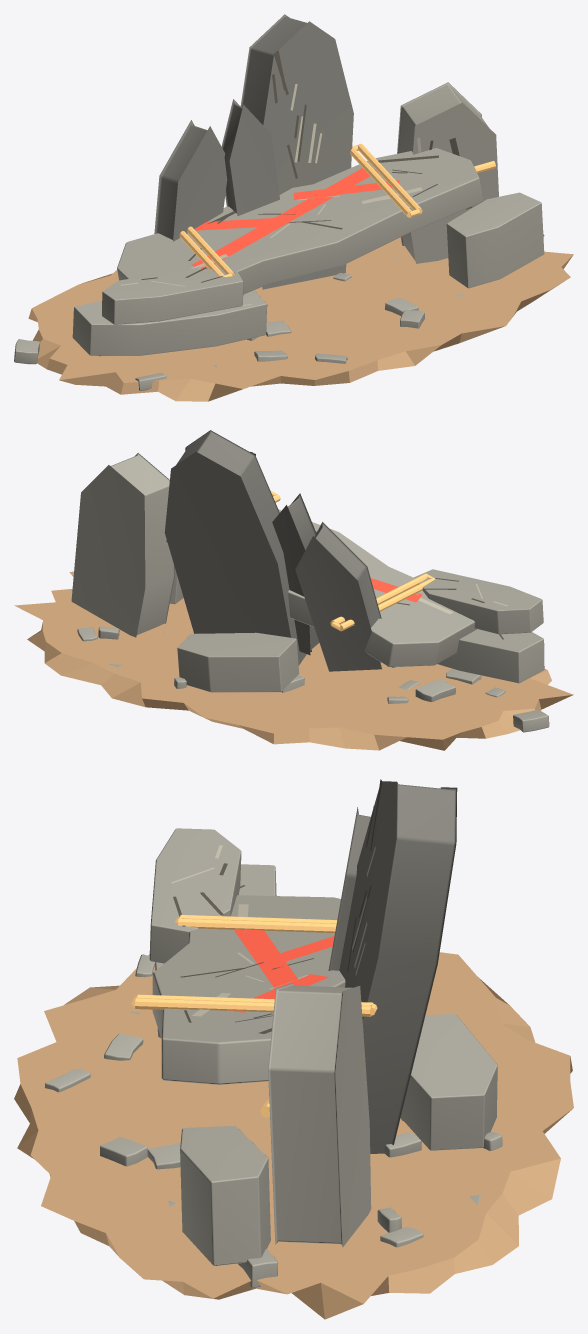
Rendered from SM_GIA_BloodAxeCairnSlabCluster_A01_TurnaroundRebuild.fbx.
3 views of the same model, one above another, from view 1: azimuth 30°, elevation 25°; view 2: azimuth 150°, elevation 25°; view 3: azimuth 270°, elevation 25° (orthographic). The views are drawn at different scales.
Visible parts, largest first — view 1: A1_Turnaround_AshMudBase, A1_Turnaround_MainFallenPaintedSlab, A1_Turnaround_RearTallBrokenSlab, A1_Turnaround_RightRawhideUpright, A1_Turnaround_LeftFrontStackBase, A1_Turnaround_RightSupportStone, A1_Turnaround_LeftFrontStackCap, A1_Turnaround_LeftRearShard, A1_Turnaround_CenterNarrowShard, A1_Turnaround_MainPaint_LongStroke, A1_Turnaround_MainPaint_CrossStrokeA, A1_Turnaround_MainPaint_CrossStrokeB (+3 smaller); view 2: A1_Turnaround_AshMudBase, A1_Turnaround_RearTallBrokenSlab, A1_Turnaround_RightRawhideUpright, A1_Turnaround_LeftRearShard, A1_Turnaround_MainFallenPaintedSlab, A1_Turnaround_BackRootStone, A1_Turnaround_LeftFrontStackCap, A1_Turnaround_LeftFrontStackBase, A1_Turnaround_CenterNarrowShard, A1_Turnaround_Pebble_41, A1_Turnaround_Pebble_29, A1_Turnaround_MainRawhideBindLeft_CordA (+1 smaller); view 3: A1_Turnaround_AshMudBase, A1_Turnaround_RearTallBrokenSlab, A1_Turnaround_RightRawhideUpright, A1_Turnaround_MainFallenPaintedSlab, A1_Turnaround_RightSupportStone, A1_Turnaround_BackRootStone, A1_Turnaround_LeftFrontStackCap, A1_Turnaround_CenterNarrowShard, A1_Turnaround_MainPaint_LongStroke, A1_Turnaround_MainRawhideBindLeft_CordB, A1_Turnaround_MainRawhideBindRight_CordB, A1_Turnaround_LeftFrontStackBase (+6 smaller).
Boxes of the visible parts, <box> form: A1_Turnaround_AshMudBase: <box>28,234,573,401</box>; A1_Turnaround_MainFallenPaintedSlab: <box>117,148,483,294</box>; A1_Turnaround_RearTallBrokenSlab: <box>240,14,353,289</box>; A1_Turnaround_RightRawhideUpright: <box>397,82,498,263</box>; A1_Turnaround_LeftFrontStackBase: <box>72,290,267,355</box>; A1_Turnaround_RightSupportStone: <box>446,192,544,288</box>; A1_Turnaround_LeftFrontStackCap: <box>102,268,243,324</box>; A1_Turnaround_LeftRearShard: <box>154,120,227,241</box>; A1_Turnaround_CenterNarrowShard: <box>221,99,279,215</box>; A1_Turnaround_MainPaint_LongStroke: <box>191,168,377,268</box>; A1_Turnaround_MainPaint_CrossStrokeA: <box>194,218,283,230</box>; A1_Turnaround_MainPaint_CrossStrokeB: <box>293,180,399,199</box>; A1_Turnaround_AshMudBase: <box>14,571,573,750</box>; A1_Turnaround_RearTallBrokenSlab: <box>164,430,311,665</box>; A1_Turnaround_RightRawhideUpright: <box>71,453,174,637</box>; A1_Turnaround_LeftRearShard: <box>295,522,381,671</box>; A1_Turnaround_MainFallenPaintedSlab: <box>166,509,476,667</box>; A1_Turnaround_BackRootStone: <box>177,632,299,692</box>; A1_Turnaround_LeftFrontStackCap: <box>414,569,543,634</box>; A1_Turnaround_LeftFrontStackBase: <box>437,629,544,683</box>; A1_Turnaround_CenterNarrowShard: <box>272,493,319,655</box>; A1_Turnaround_Pebble_41: <box>513,710,549,732</box>; A1_Turnaround_Pebble_29: <box>415,678,455,701</box>; A1_Turnaround_MainRawhideBindLeft_CordA: <box>339,577,435,631</box>; A1_Turnaround_AshMudBase: <box>14,952,573,1319</box>; A1_Turnaround_RearTallBrokenSlab: <box>339,781,457,1153</box>; A1_Turnaround_RightRawhideUpright: <box>268,983,371,1246</box>; A1_Turnaround_MainFallenPaintedSlab: <box>152,895,345,1084</box>; A1_Turnaround_RightSupportStone: <box>180,1125,270,1266</box>; A1_Turnaround_BackRootStone: <box>400,1014,497,1150</box>; A1_Turnaround_LeftFrontStackCap: <box>149,828,241,963</box>; A1_Turnaround_CenterNarrowShard: <box>328,807,370,970</box>; A1_Turnaround_MainPaint_LongStroke: <box>233,929,302,989</box>; A1_Turnaround_MainRawhideBindLeft_CordB: <box>178,918,336,932</box>; A1_Turnaround_MainRawhideBindRight_CordB: <box>135,998,371,1016</box>; A1_Turnaround_LeftFrontStackBase: <box>155,864,276,1037</box>.
Bounding box in the file's own units: 22702 × 38031 × 17014.
